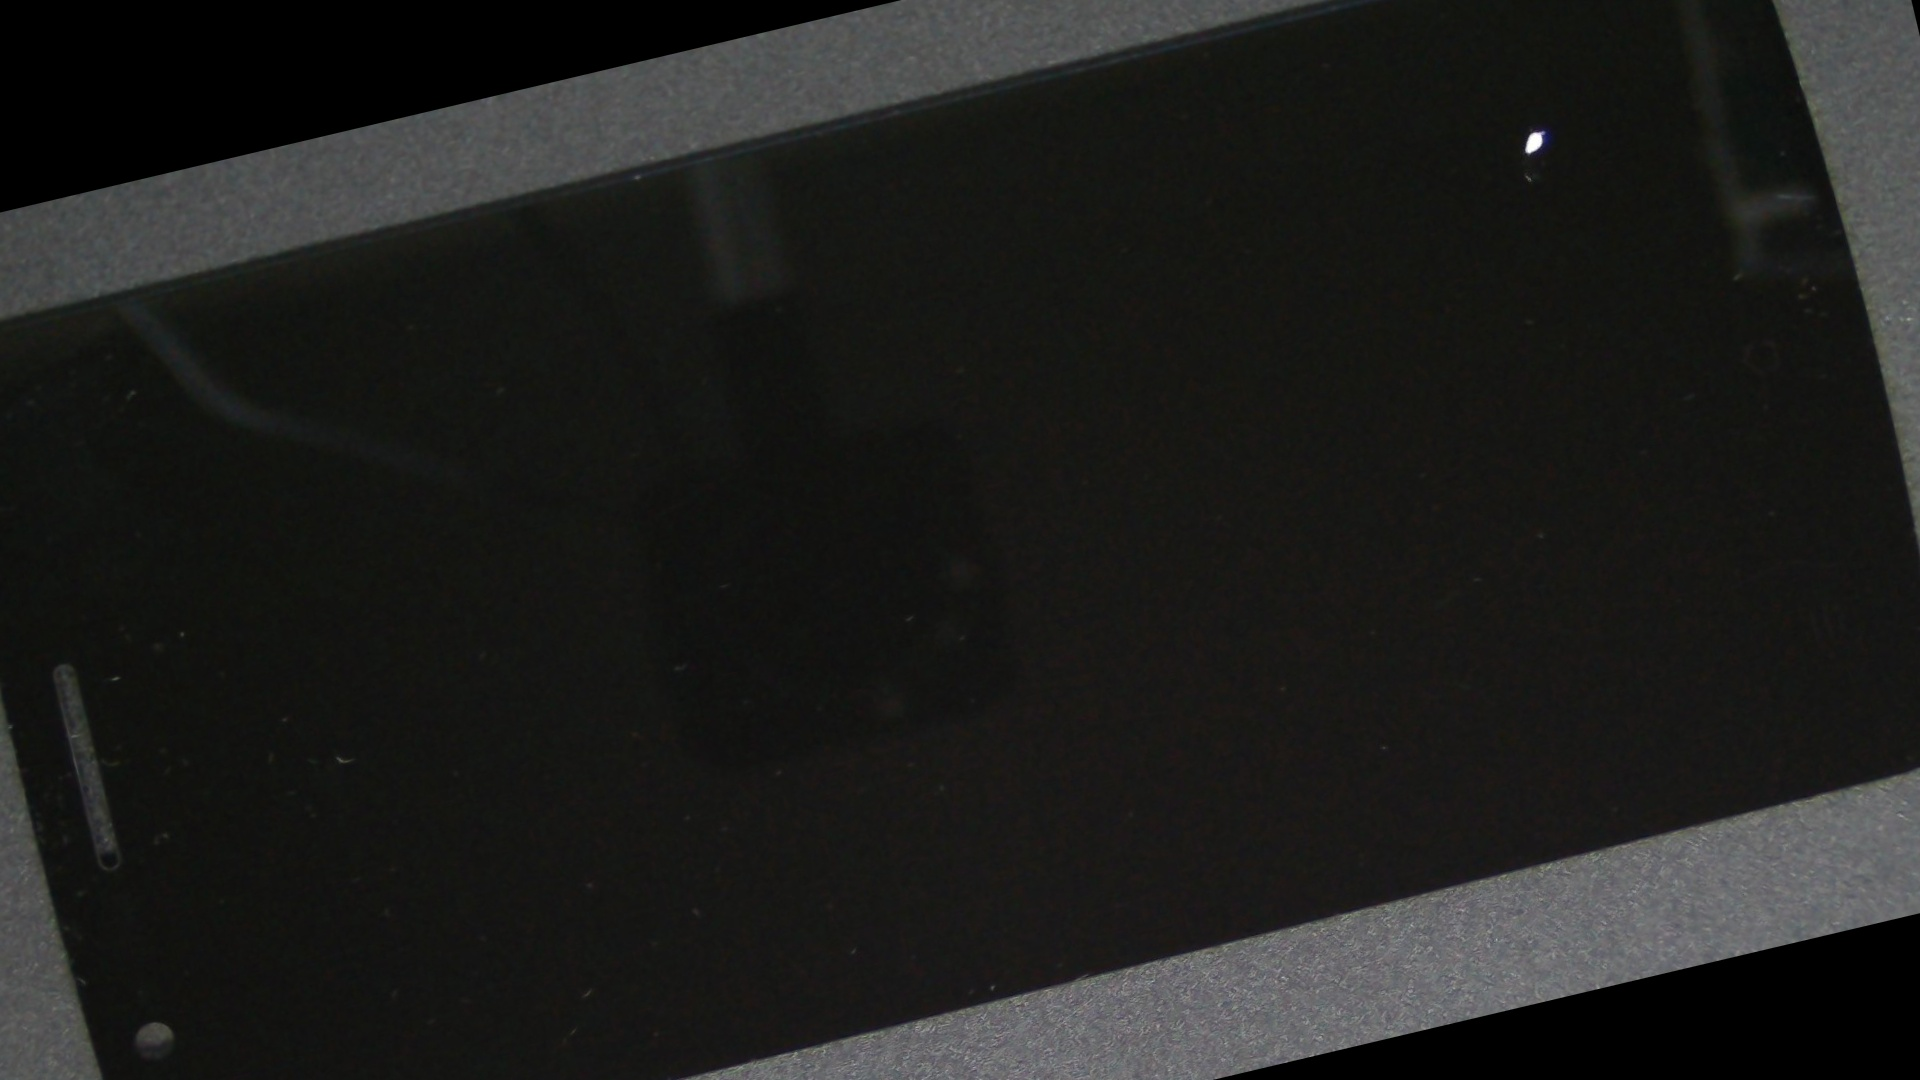oil: (661, 0, 1920, 462)
